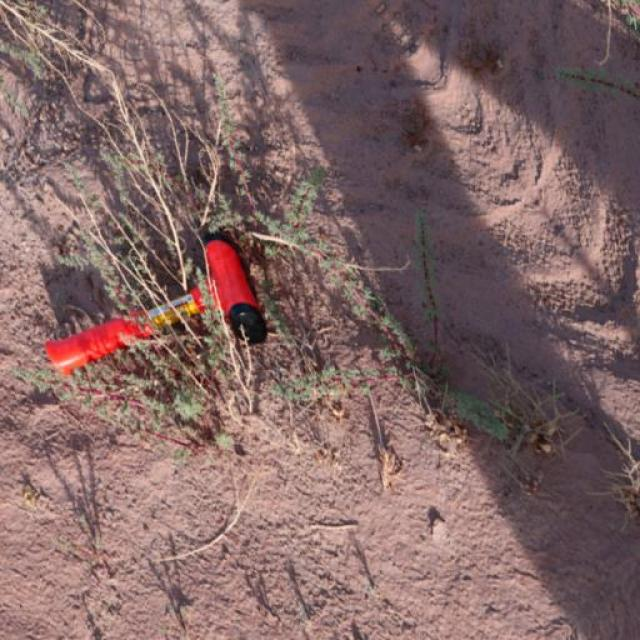mallet: (42, 230, 268, 376)
